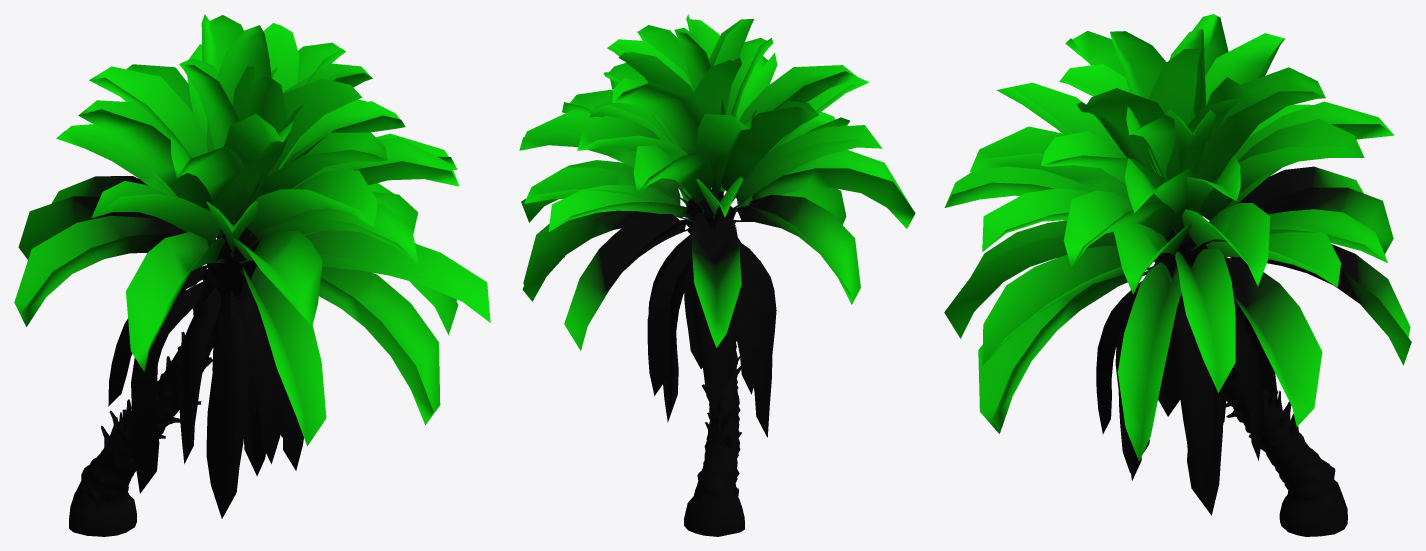
The picture shows the model from 3 angles, left to right: view 1: azimuth 30°, elevation 25°; view 2: azimuth 150°, elevation 25°; view 3: azimuth 270°, elevation 25°; orthographic projection. The views are drawn at different scales.
Visible parts, largest first — view 1: SM_TR_DatePalm_5m_HD; view 2: SM_TR_DatePalm_5m_HD; view 3: SM_TR_DatePalm_5m_HD.
Part boxes in pixels (x1=…): SM_TR_DatePalm_5m_HD: x1=14, y1=14, x2=490, y2=536; SM_TR_DatePalm_5m_HD: x1=519, y1=14, x2=915, y2=536; SM_TR_DatePalm_5m_HD: x1=944, y1=14, x2=1411, y2=536.
Bounding box in the file's own units: 160 × 162 × 198.
